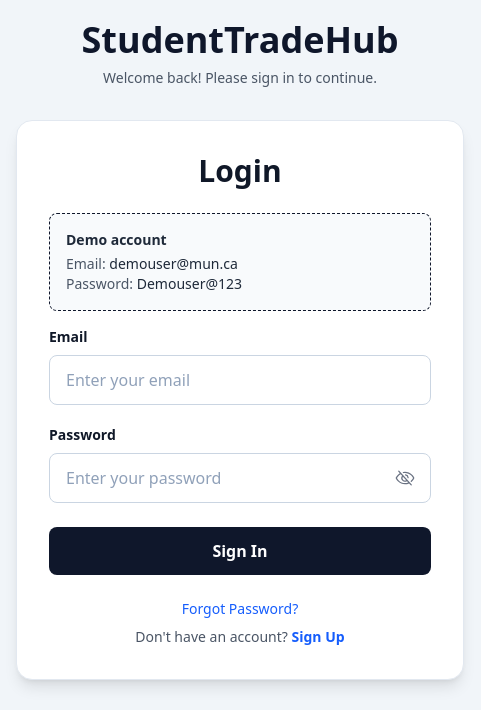
Login Component › shows validation error for short password
The width and height of the screenshot is (481, 710).
# Enter short password
Type "test@example.com" into the field labelled "Email" at (240, 380), box [49, 355, 431, 405]
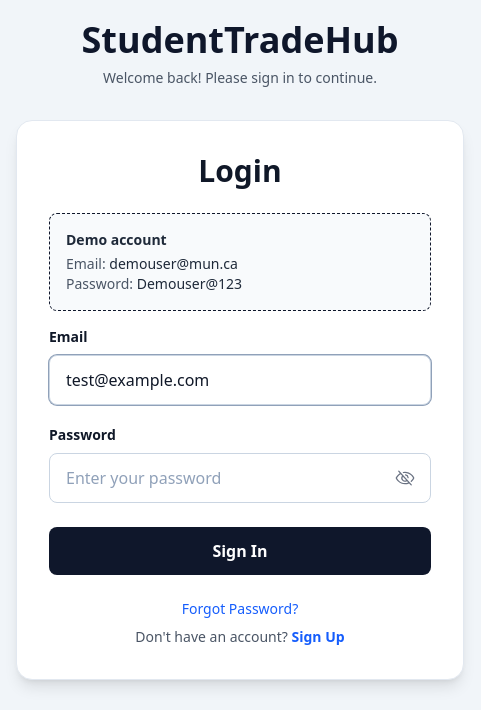
Type "12345" into the password field labelled "Password" at (240, 478), box [49, 453, 431, 503]
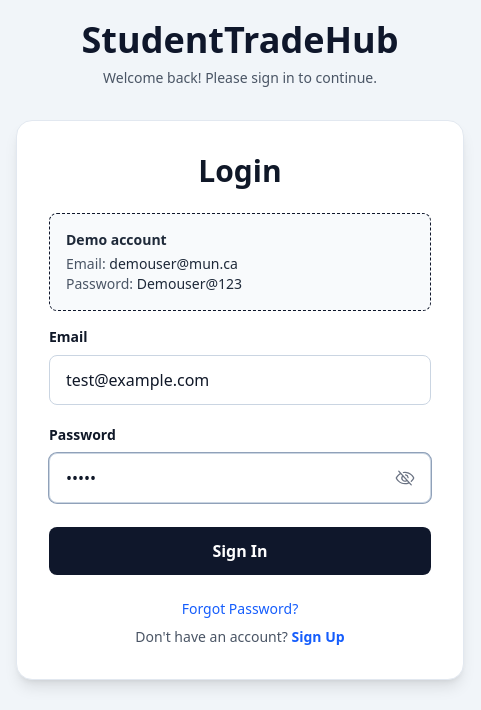
Click the button "Sign In" at (240, 551), box [49, 527, 431, 575]
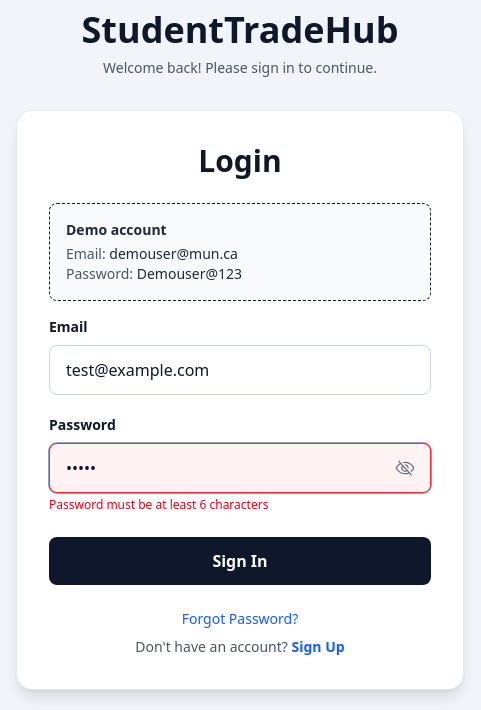
Result: the text "Password must be at least 6 characters" is shown at [49, 496, 268, 513]
